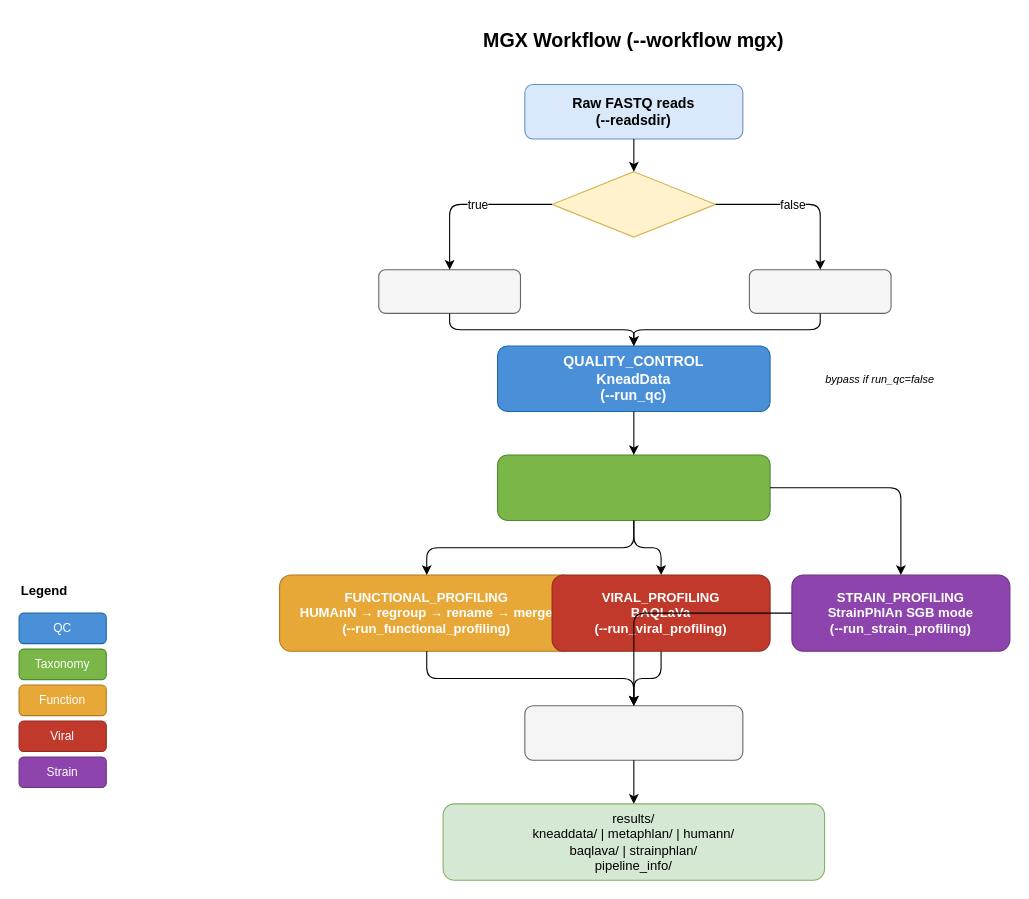
Some shapes in this 1029 by 899 pixel diagram are drawn without their labels. The shapes that lost their labels are listed below. From the top down, each one's centre as x and y in pixels, then its label:
At (633,204): "paired_end?".
At (449,291): "fromFilePairs".
At (819,291): "fromPath".
At (633,487): "TAXONOMIC_PROFILING MetaPhlAn + merge (--run_taxonomic_profiling)".
At (633,732): "version_log pipeline_info/".
